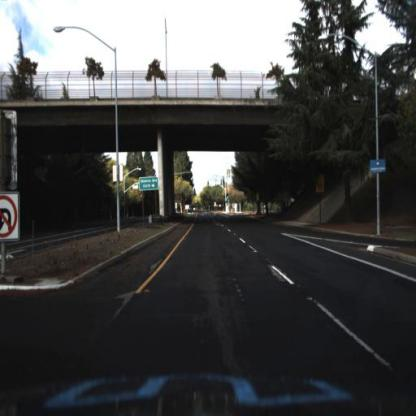trafficLight-Green: (228, 194, 230, 200), (209, 182, 210, 188)
